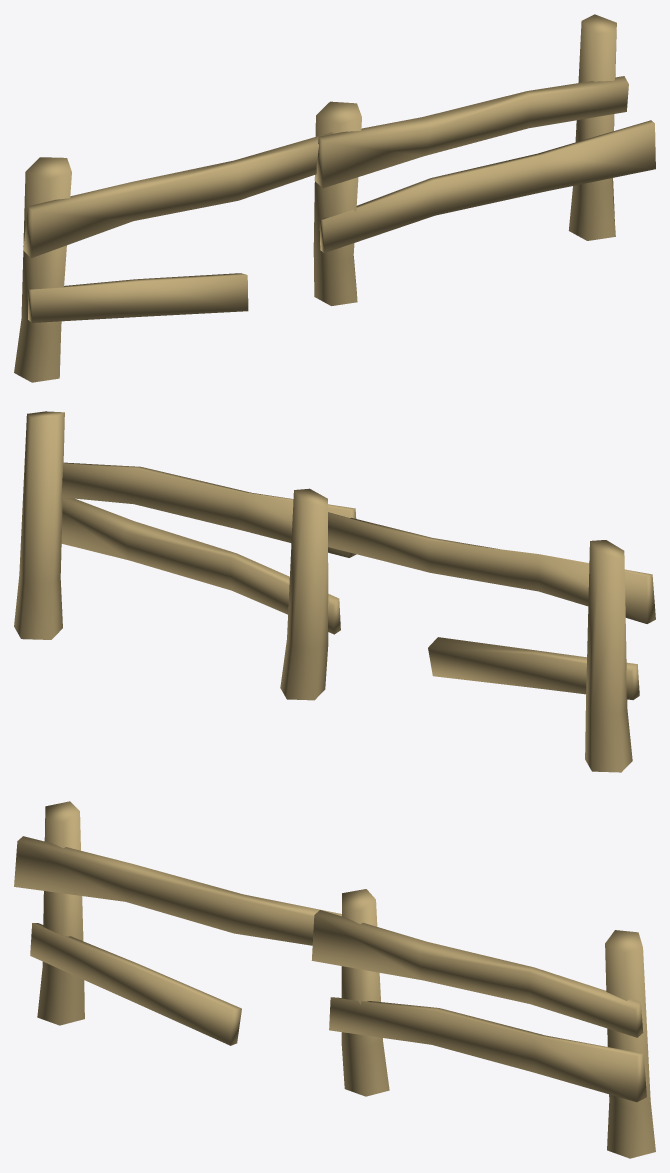
Rendered from fence A.fbx.
3 renders of one model, top to bottom at view 1: azimuth 30°, elevation 25°; view 2: azimuth 150°, elevation 25°; view 3: azimuth 330°, elevation 25°, orthographic.
Visible parts, largest first — view 1: LowPolyFence_01; view 2: LowPolyFence_01; view 3: LowPolyFence_01.
Part boxes in pixels (<box>): LowPolyFence_01: <box>14,14,655,382</box>; LowPolyFence_01: <box>14,411,655,772</box>; LowPolyFence_01: <box>14,801,655,1158</box>.
Bounding box in the file's own units: 496 × 163 × 56.37.
